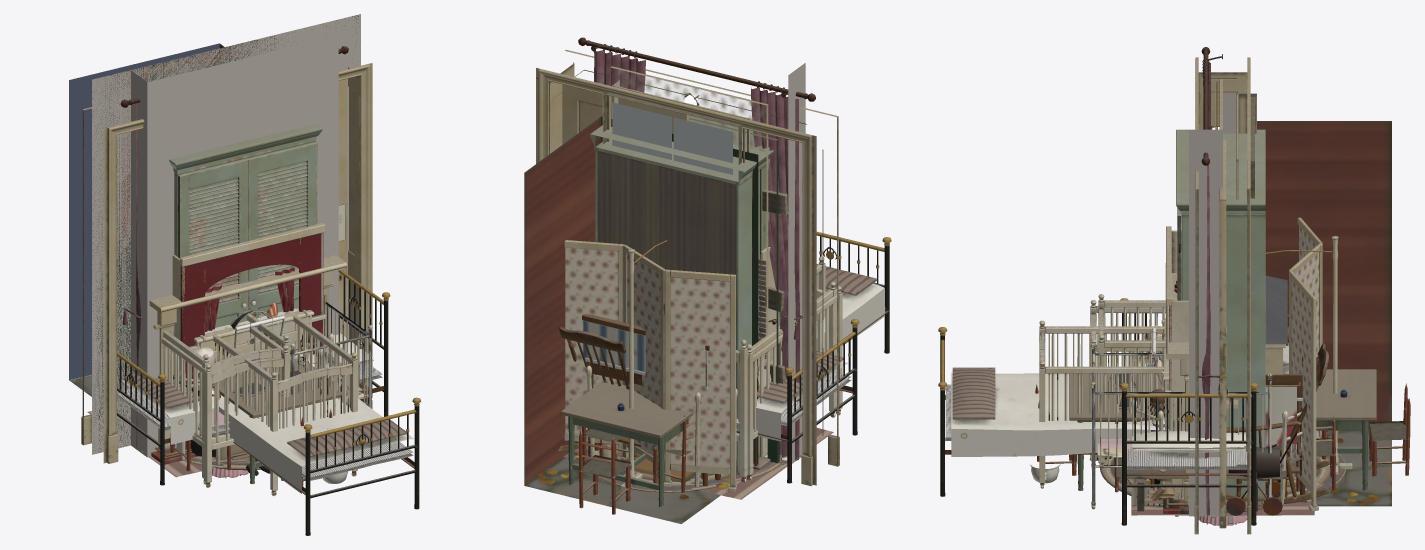
The model's file is wood.glb.
3 renders of one model, left to right at view 1: azimuth 30°, elevation 25°; view 2: azimuth 150°, elevation 25°; view 3: azimuth 270°, elevation 25°, orthographic. The views are drawn at different scales.
Visible parts, largest first — view 1: Mod_fireplace_wood, Door_frame_wood, Solid_iron_bed, Band_puppet_theatre, Door_closed_wood, Exit_wood_p1, Ward_leafR_wood, Ward_leafL_wood, Isl_twin_cribs_p0, Isl_bed_screen, Mod_wallhole_lath_C_wood, Exit_wood_p0 (+15 smaller); view 2: Isl_bed_screen, Exit_wood_p0, Ward_body_wood, Door_frame_wood, Win_sash_curtain, Solid_nursery_table, Win_sash_glass, Solid_iron_bed, Isl_crib_rocker, Mod_fireplace_wood, Isl_washstand, Isl_twin_cribs_p0 (+9 smaller); view 3: Exit_wood_p0, Isl_bed_screen, Solid_iron_bed, Ward_body_wood, Mod_fireplace_wood, Solid_nursery_table, Isl_dollhouse, Door_frame_wood, Isl_twin_cribs_p0, Solid_crib_v0, Isl_crib_rocker, Door_leaf_wood (+10 smaller).
Boxes of the visible parts, bbox=[...] form: Mod_fireplace_wood: bbox=[92, 23, 360, 464]; Door_frame_wood: bbox=[81, 63, 372, 463]; Solid_iron_bed: bbox=[212, 363, 421, 535]; Band_puppet_theatre: bbox=[172, 223, 326, 450]; Door_closed_wood: bbox=[92, 14, 360, 454]; Exit_wood_p1: bbox=[69, 43, 219, 380]; Ward_leafR_wood: bbox=[247, 141, 317, 318]; Ward_leafL_wood: bbox=[178, 158, 248, 327]; Isl_twin_cribs_p0: bbox=[161, 302, 372, 487]; Isl_bed_screen: bbox=[117, 270, 390, 485]; Mod_wallhole_lath_C_wood: bbox=[92, 14, 360, 453]; Exit_wood_p0: bbox=[69, 15, 358, 452]; Isl_bed_screen: bbox=[564, 240, 859, 491]; Exit_wood_p0: bbox=[524, 93, 779, 524]; Ward_body_wood: bbox=[590, 115, 773, 474]; Door_frame_wood: bbox=[536, 49, 839, 485]; Win_sash_curtain: bbox=[578, 37, 815, 460]; Solid_nursery_table: bbox=[561, 382, 703, 514]; Win_sash_glass: bbox=[612, 102, 732, 174]; Solid_iron_bed: bbox=[816, 231, 891, 353]; Isl_crib_rocker: bbox=[586, 281, 836, 492]; Mod_fireplace_wood: bbox=[779, 63, 805, 463]; Isl_washstand: bbox=[565, 314, 773, 496]; Isl_twin_cribs_p0: bbox=[736, 286, 842, 480]; Exit_wood_p0: bbox=[1210, 121, 1391, 506]; Isl_bed_screen: bbox=[1120, 217, 1322, 525]; Solid_iron_bed: bbox=[938, 327, 1152, 496]; Ward_body_wood: bbox=[1176, 129, 1265, 498]; Mod_fireplace_wood: bbox=[1163, 129, 1222, 516]; Solid_nursery_table: bbox=[1035, 369, 1410, 492]; Isl_dollhouse: bbox=[1131, 275, 1314, 515]; Door_frame_wood: bbox=[1194, 57, 1251, 534]; Isl_twin_cribs_p0: bbox=[1090, 300, 1272, 509]; Solid_crib_v0: bbox=[1039, 320, 1168, 488]; Isl_crib_rocker: bbox=[1098, 294, 1345, 508]; Door_leaf_wood: bbox=[1217, 139, 1228, 528].
Bounding box in the file's own units: 2.25 × 3.35 × 3.32.
Materials: 43 (39 with a texture image).
